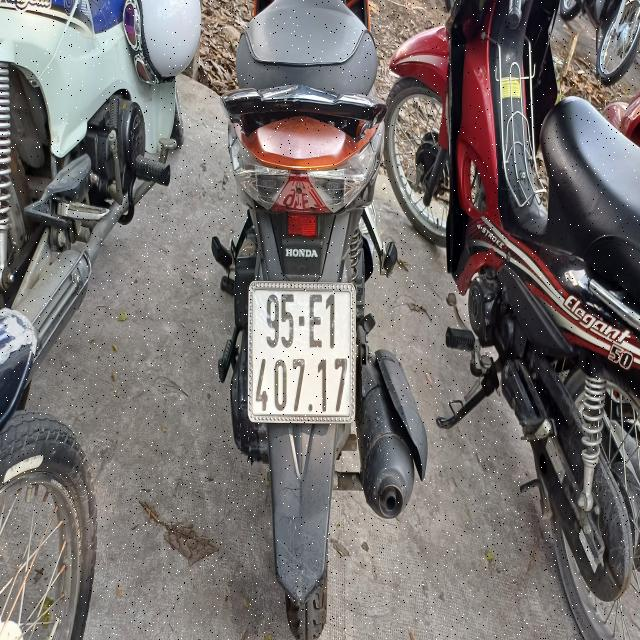0: (273, 356, 288, 412)
1: (316, 357, 328, 414), (326, 295, 336, 352)
4: (255, 358, 269, 413)
5: (280, 291, 295, 350)
7: (334, 356, 348, 415), (292, 356, 305, 411)
9: (265, 294, 279, 350)
E: (308, 292, 324, 350)
